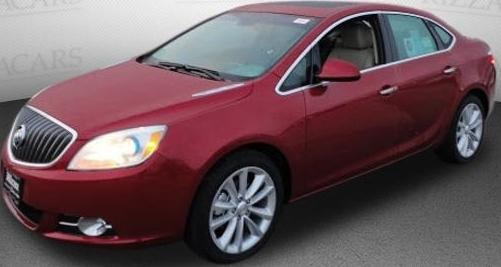front_view: (2, 84, 184, 248)
headlight: (63, 121, 173, 175)
side_glass: (311, 10, 458, 91)
